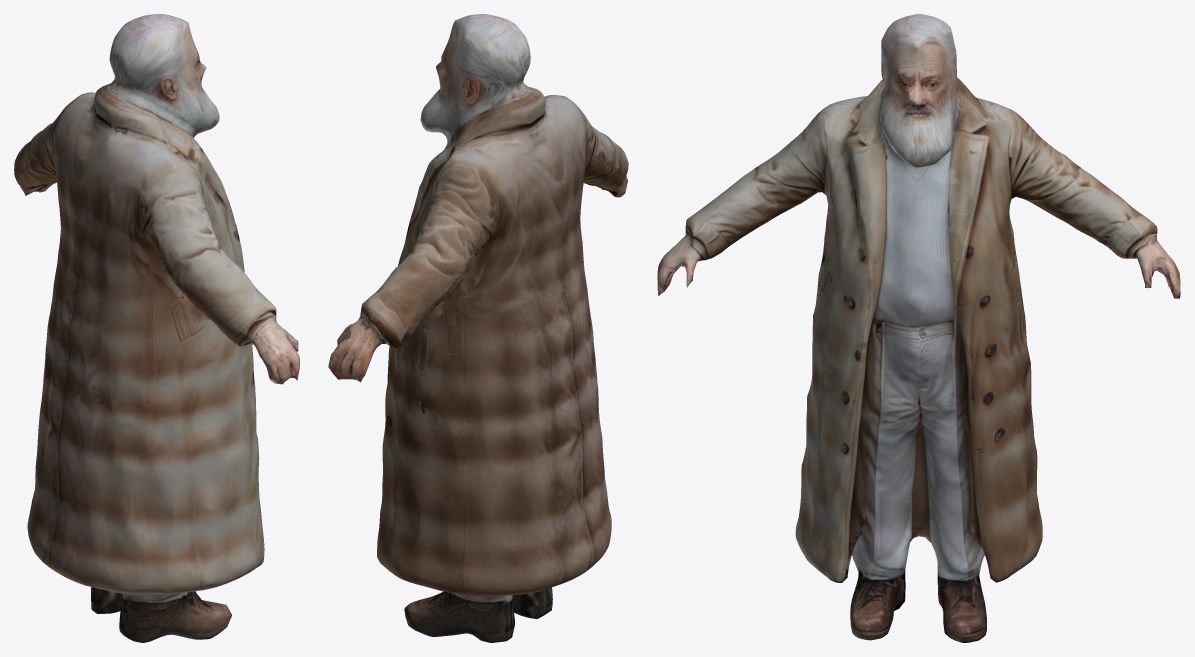
Rendered from Oldman.fbx.
3 renders of one model, left to right at view 1: azimuth 30°, elevation 25°; view 2: azimuth 150°, elevation 25°; view 3: azimuth 270°, elevation 25°, orthographic.
Visible parts, largest first — view 1: Mesh_0; view 2: Mesh_0; view 3: Mesh_0.
Part boxes in pixels (left/top/right/bottom): Mesh_0: left=14, top=14, right=299, bottom=642; Mesh_0: left=328, top=14, right=628, bottom=642; Mesh_0: left=657, top=14, right=1180, bottom=642.
Size of the model in its own units: 36.79 by 120 by 94.24.
1 material, 1 textured.
